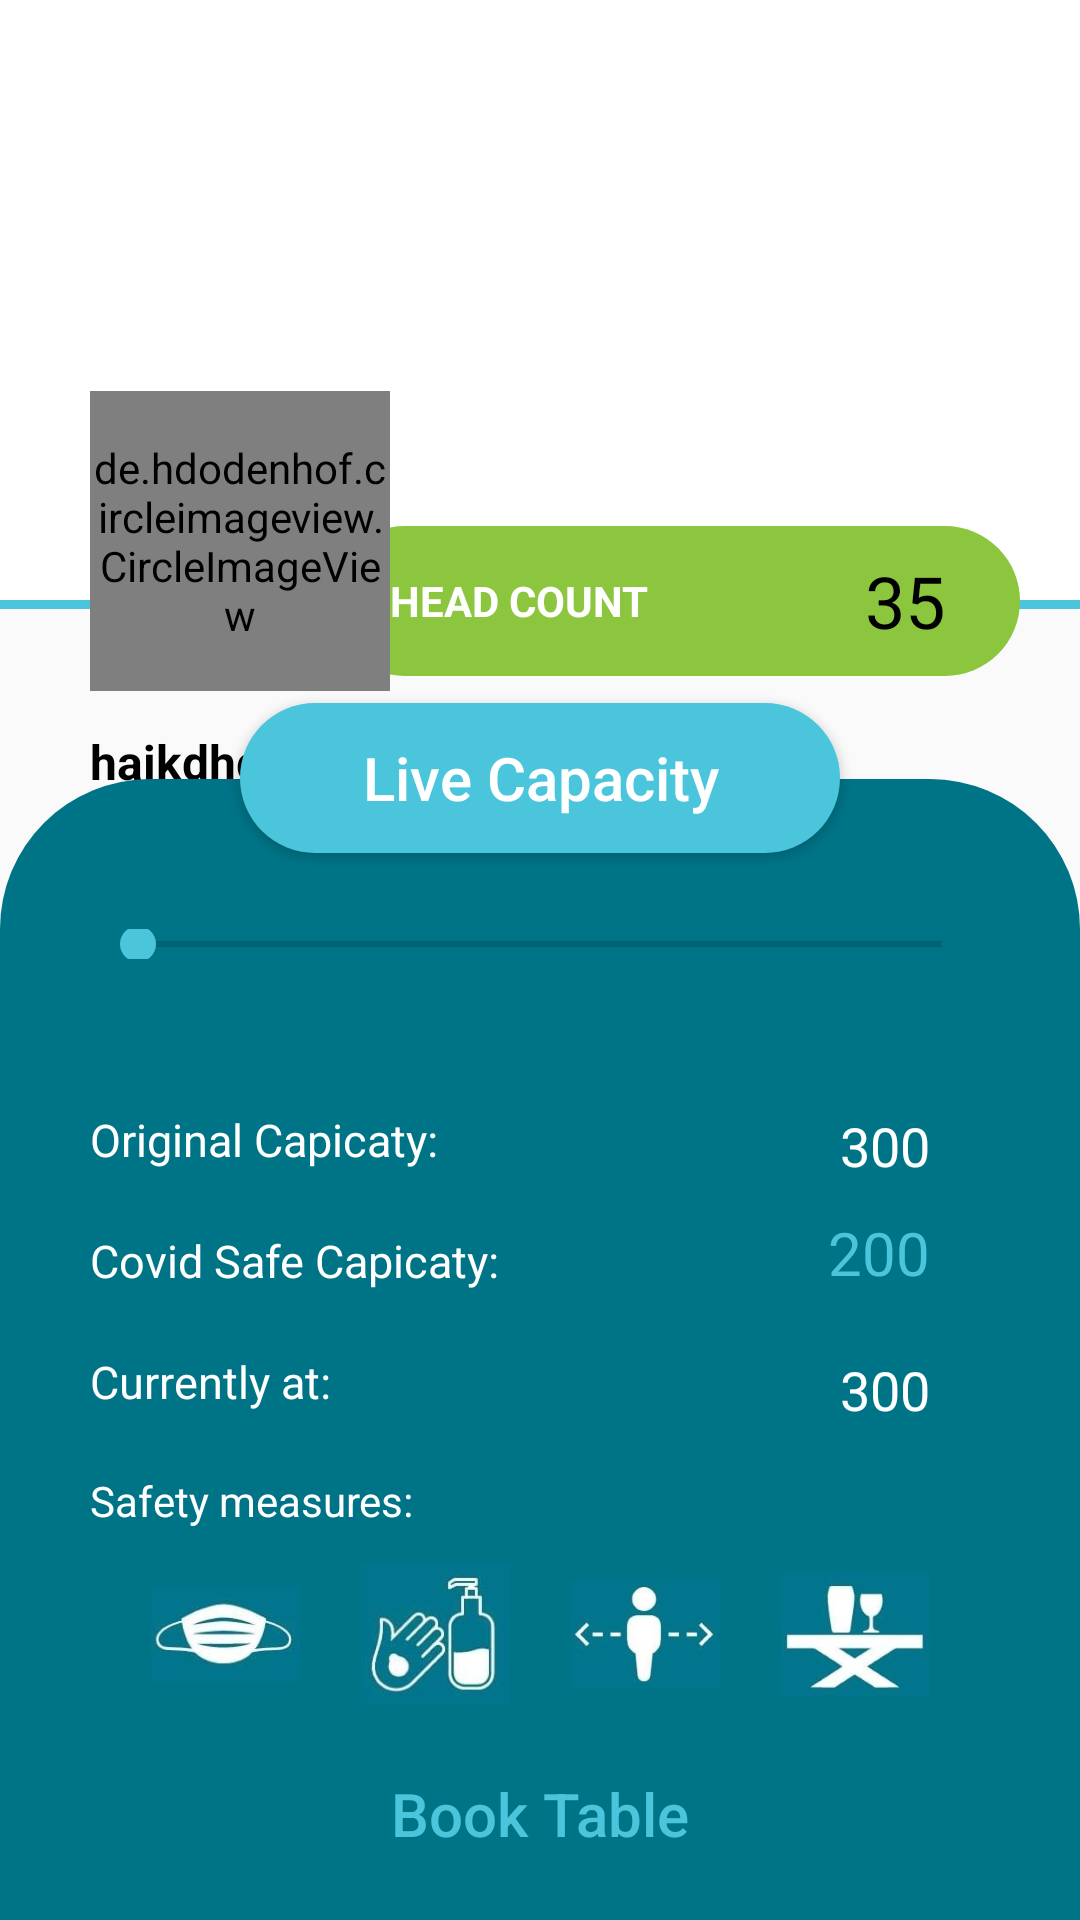

Screen size 1080*1920. Icon name, then its center in pixels as (x,y):
sanitizer: (433,1634)
social: (644,1634)
